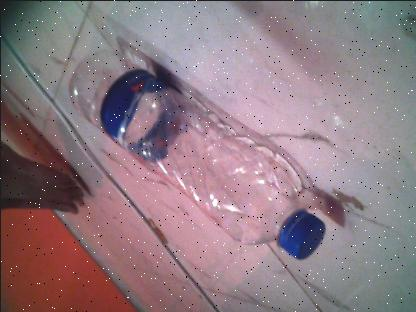Plastic Bottle: (68, 42, 330, 280)
